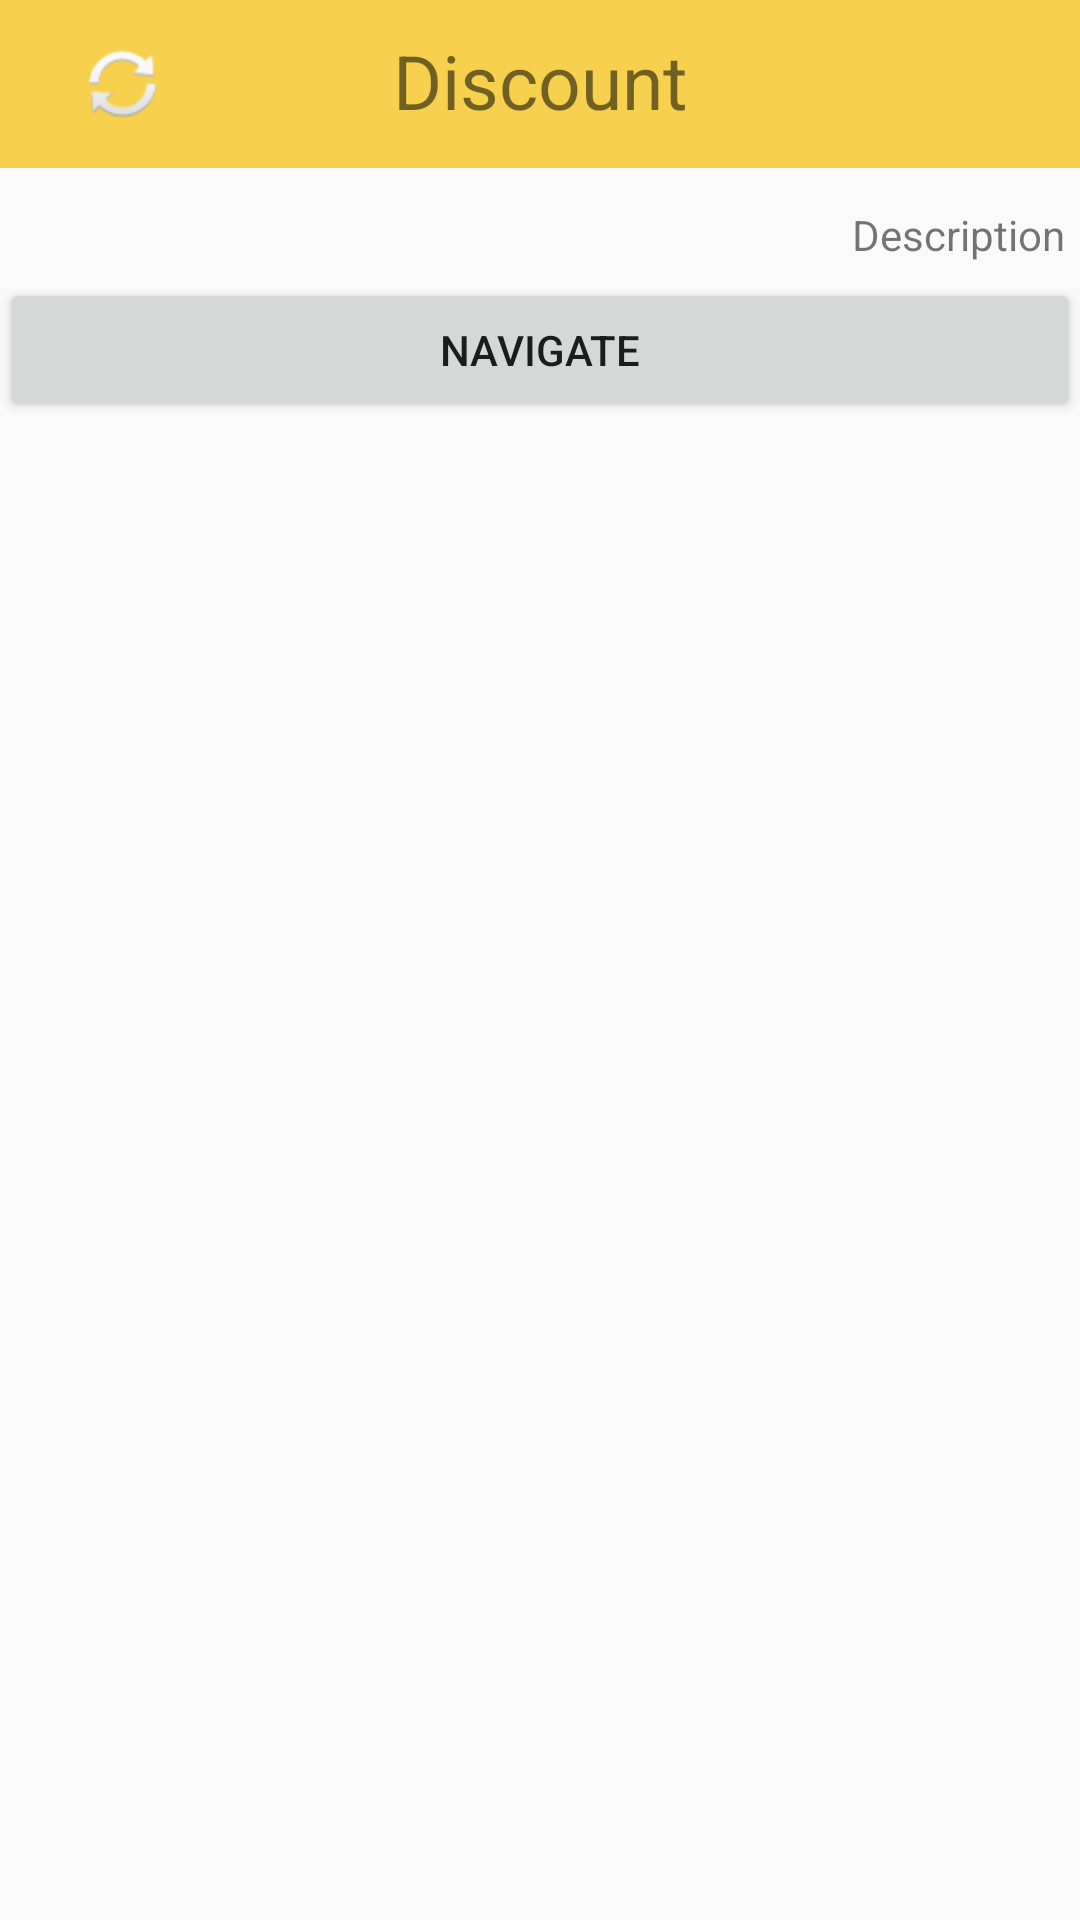

Icons on this 1080w x 1920h Android screen, each with the point to tap as point (x, y):
popup sync: point (123, 83)
